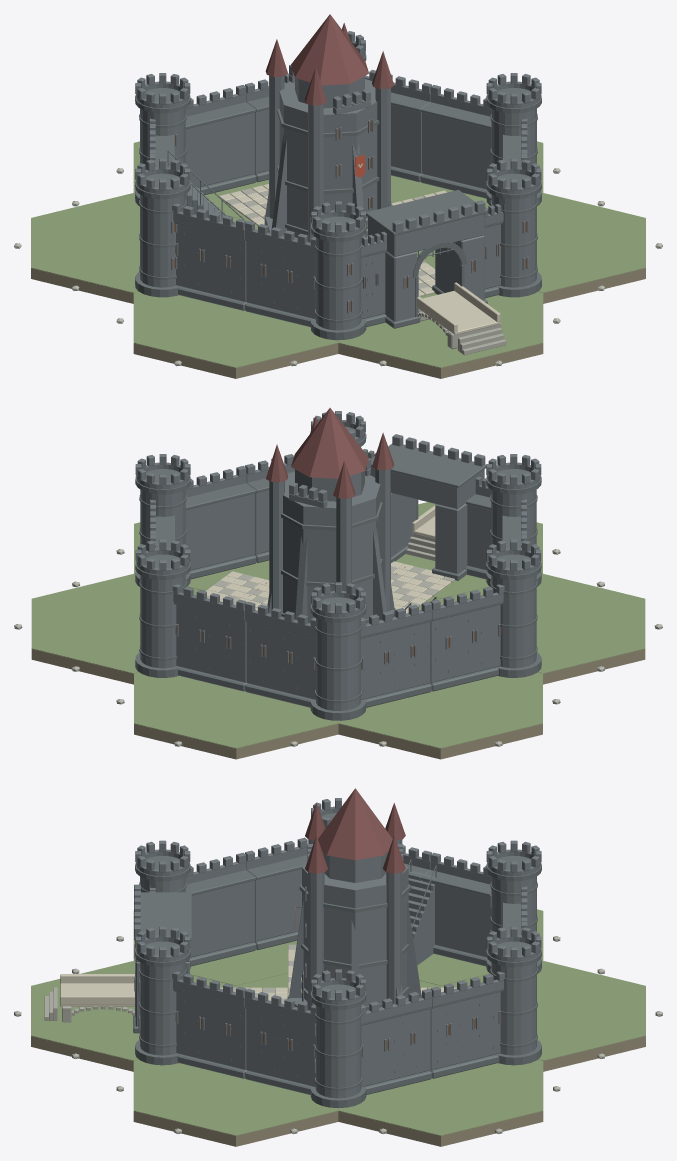
Rendered from EH-002.iron-crown.glb.
3 views of the same model, one above another, from view 1: azimuth 30°, elevation 25°; view 2: azimuth 150°, elevation 25°; view 3: azimuth 270°, elevation 25° (orthographic).
Visible parts, largest first — view 1: enemy-013/EH-002 Iron crown enemy castle keep batched, enemy-005/EH-008 Seven metre hex terrain foundation batched, enemy-028/EH-004 Open passage castle gatehouse batched, enemy-006/EH-008 Seven metre hex terrain foundation batched, enemy-003/EH-008 Seven metre hex terrain foundation batched, enemy-004/EH-008 Seven metre hex terrain foundation batched, enemy-018/EH-005 Round corner watchtower batched, enemy-020/EH-003 Six metre curtain wall walk batched, enemy-023/EH-003 Six metre curtain wall walk batched, enemy-026/EH-003 Six metre curtain wall walk batched, enemy-027/EH-003 Six metre curtain wall walk batched, enemy-017/EH-005 Round corner watchtower batched (+15 smaller); view 2: enemy-013/EH-002 Iron crown enemy castle keep batched, enemy-007/EH-008 Seven metre hex terrain foundation batched, enemy-006/EH-008 Seven metre hex terrain foundation batched, enemy-005/EH-008 Seven metre hex terrain foundation batched, enemy-002/EH-008 Seven metre hex terrain foundation batched, enemy-028/EH-004 Open passage castle gatehouse batched, enemy-032/EH-003 Six metre curtain wall walk batched, enemy-016/EH-005 Round corner watchtower batched, enemy-025/EH-003 Six metre curtain wall walk batched, enemy-022/EH-003 Six metre curtain wall walk batched, enemy-023/EH-003 Six metre curtain wall walk batched, enemy-024/EH-003 Six metre curtain wall walk batched (+15 smaller); view 3: enemy-013/EH-002 Iron crown enemy castle keep batched, enemy-003/EH-008 Seven metre hex terrain foundation batched, enemy-002/EH-008 Seven metre hex terrain foundation batched, enemy-007/EH-008 Seven metre hex terrain foundation batched, enemy-014/EH-005 Round corner watchtower batched, enemy-021/EH-003 Six metre curtain wall walk batched, enemy-031/EH-003 Six metre curtain wall walk batched, enemy-027/EH-003 Six metre curtain wall walk batched, enemy-020/EH-003 Six metre curtain wall walk batched, enemy-032/EH-003 Six metre curtain wall walk batched, enemy-004/EH-008 Seven metre hex terrain foundation batched, enemy-019/EH-005 Round corner watchtower batched (+13 smaller).
Part boxes in pixels (bbox=[...]): enemy-013/EH-002 Iron crown enemy castle keep batched: bbox=[264, 14, 394, 242]; enemy-005/EH-008 Seven metre hex terrain foundation batched: bbox=[116, 291, 338, 378]; enemy-028/EH-004 Open passage castle gatehouse batched: bbox=[366, 190, 487, 328]; enemy-006/EH-008 Seven metre hex terrain foundation batched: bbox=[14, 193, 235, 303]; enemy-003/EH-008 Seven metre hex terrain foundation batched: bbox=[486, 193, 662, 303]; enemy-004/EH-008 Seven metre hex terrain foundation batched: bbox=[338, 291, 560, 378]; enemy-018/EH-005 Round corner watchtower batched: bbox=[310, 201, 366, 340]; enemy-020/EH-003 Six metre curtain wall walk batched: bbox=[420, 85, 491, 198]; enemy-023/EH-003 Six metre curtain wall walk batched: bbox=[185, 85, 256, 195]; enemy-026/EH-003 Six metre curtain wall walk batched: bbox=[172, 203, 255, 310]; enemy-027/EH-003 Six metre curtain wall walk batched: bbox=[244, 221, 315, 326]; enemy-017/EH-005 Round corner watchtower batched: bbox=[135, 158, 190, 297]; enemy-013/EH-002 Iron crown enemy castle keep batched: bbox=[266, 408, 395, 623]; enemy-007/EH-008 Seven metre hex terrain foundation batched: bbox=[116, 672, 338, 759]; enemy-006/EH-008 Seven metre hex terrain foundation batched: bbox=[338, 672, 560, 759]; enemy-005/EH-008 Seven metre hex terrain foundation batched: bbox=[440, 574, 662, 684]; enemy-002/EH-008 Seven metre hex terrain foundation batched: bbox=[14, 574, 199, 684]; enemy-028/EH-004 Open passage castle gatehouse batched: bbox=[370, 434, 486, 580]; enemy-032/EH-003 Six metre curtain wall walk batched: bbox=[185, 465, 256, 579]; enemy-016/EH-005 Round corner watchtower batched: bbox=[310, 582, 366, 720]; enemy-025/EH-003 Six metre curtain wall walk batched: bbox=[420, 584, 504, 691]; enemy-022/EH-003 Six metre curtain wall walk batched: bbox=[172, 584, 256, 691]; enemy-023/EH-003 Six metre curtain wall walk batched: bbox=[245, 601, 315, 707]; enemy-024/EH-003 Six metre curtain wall walk batched: bbox=[361, 601, 431, 707]; enemy-013/EH-002 Iron crown enemy castle keep batched: bbox=[287, 788, 421, 1010]; enemy-003/EH-008 Seven metre hex terrain foundation batched: bbox=[116, 1059, 338, 1146]; enemy-002/EH-008 Seven metre hex terrain foundation batched: bbox=[338, 1059, 560, 1146]; enemy-007/EH-008 Seven metre hex terrain foundation batched: bbox=[441, 961, 662, 1071]; enemy-014/EH-005 Round corner watchtower batched: bbox=[310, 969, 366, 1108]; enemy-021/EH-003 Six metre curtain wall walk batched: bbox=[421, 971, 504, 1078]; enemy-031/EH-003 Six metre curtain wall walk batched: bbox=[172, 971, 255, 1078]; enemy-027/EH-003 Six metre curtain wall walk batched: bbox=[185, 852, 256, 966]; enemy-020/EH-003 Six metre curtain wall walk batched: bbox=[361, 988, 432, 1094]; enemy-032/EH-003 Six metre curtain wall walk batched: bbox=[244, 988, 315, 1094]; enemy-004/EH-008 Seven metre hex terrain foundation batched: bbox=[14, 961, 235, 1071]; enemy-019/EH-005 Round corner watchtower batched: bbox=[135, 926, 190, 1065].
Bounding box in the file's own units: 35 × 15.26 × 38.39.
